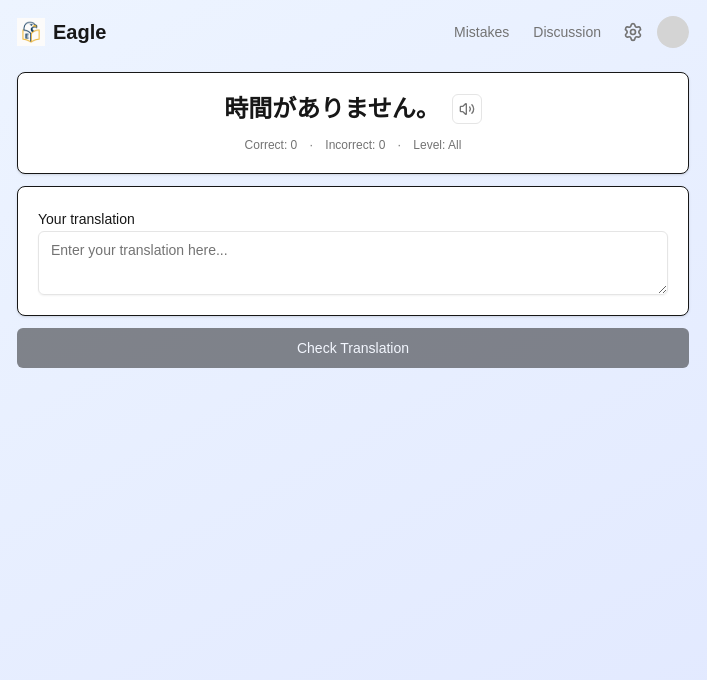
Test: review phase › retires the Explain button once the explanation is on screen
The image size is (707, 680).
expect the text "時間がありません。" is shown: met, box [224, 93, 440, 125]
Type "I have no time." into the text box named "Your English translation".
click(353, 263); type("I have no time.")  # box [38, 231, 668, 295]
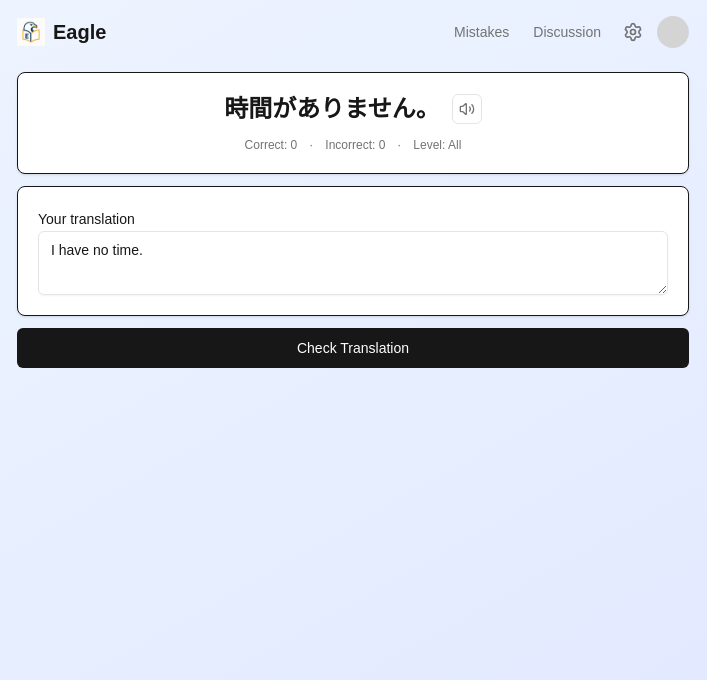
Click the button "Check Translation".
click(353, 348)  # box [17, 328, 689, 368]
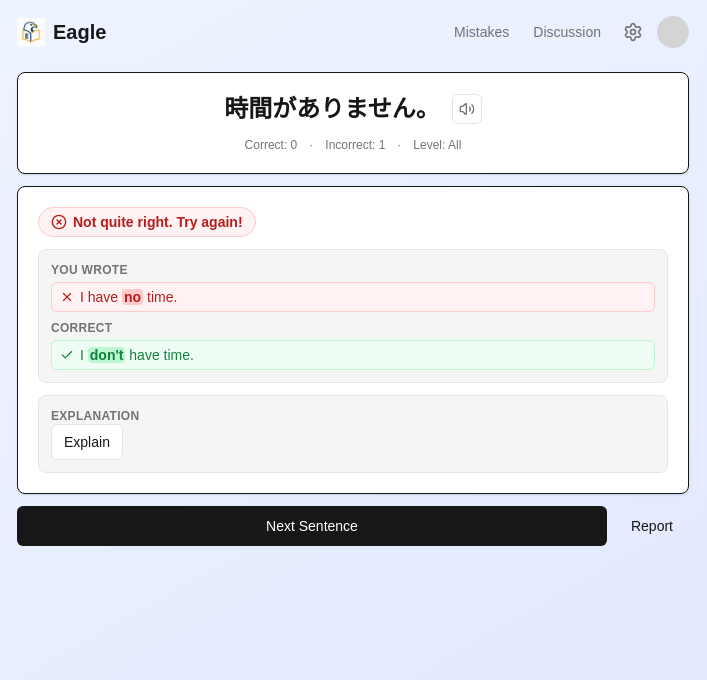
expect the text "Not quite right. Try again!" is shown: met, box [38, 207, 256, 237]
Click the button "Explain".
click(87, 442)  # box [51, 424, 123, 460]
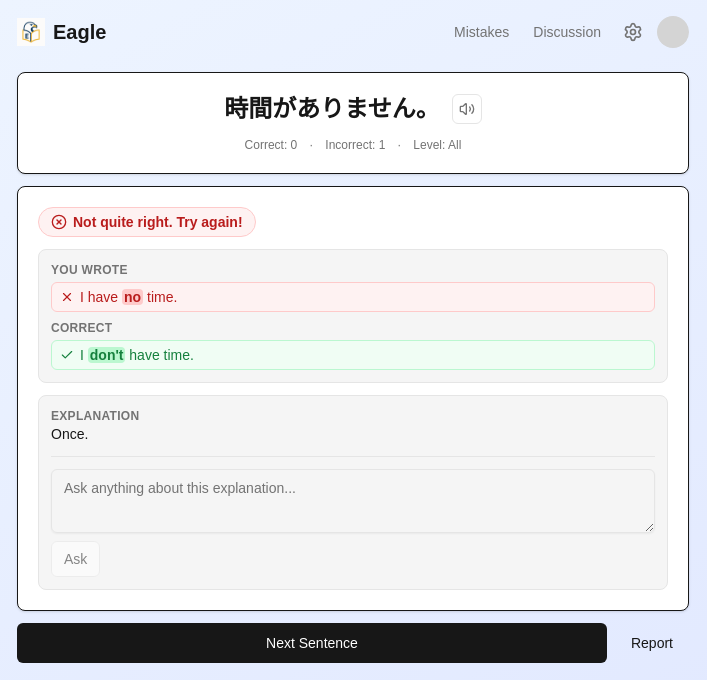
expect the text "Once." is shown: met, box [51, 426, 88, 442]
expect the button "Explain" is gone: met
